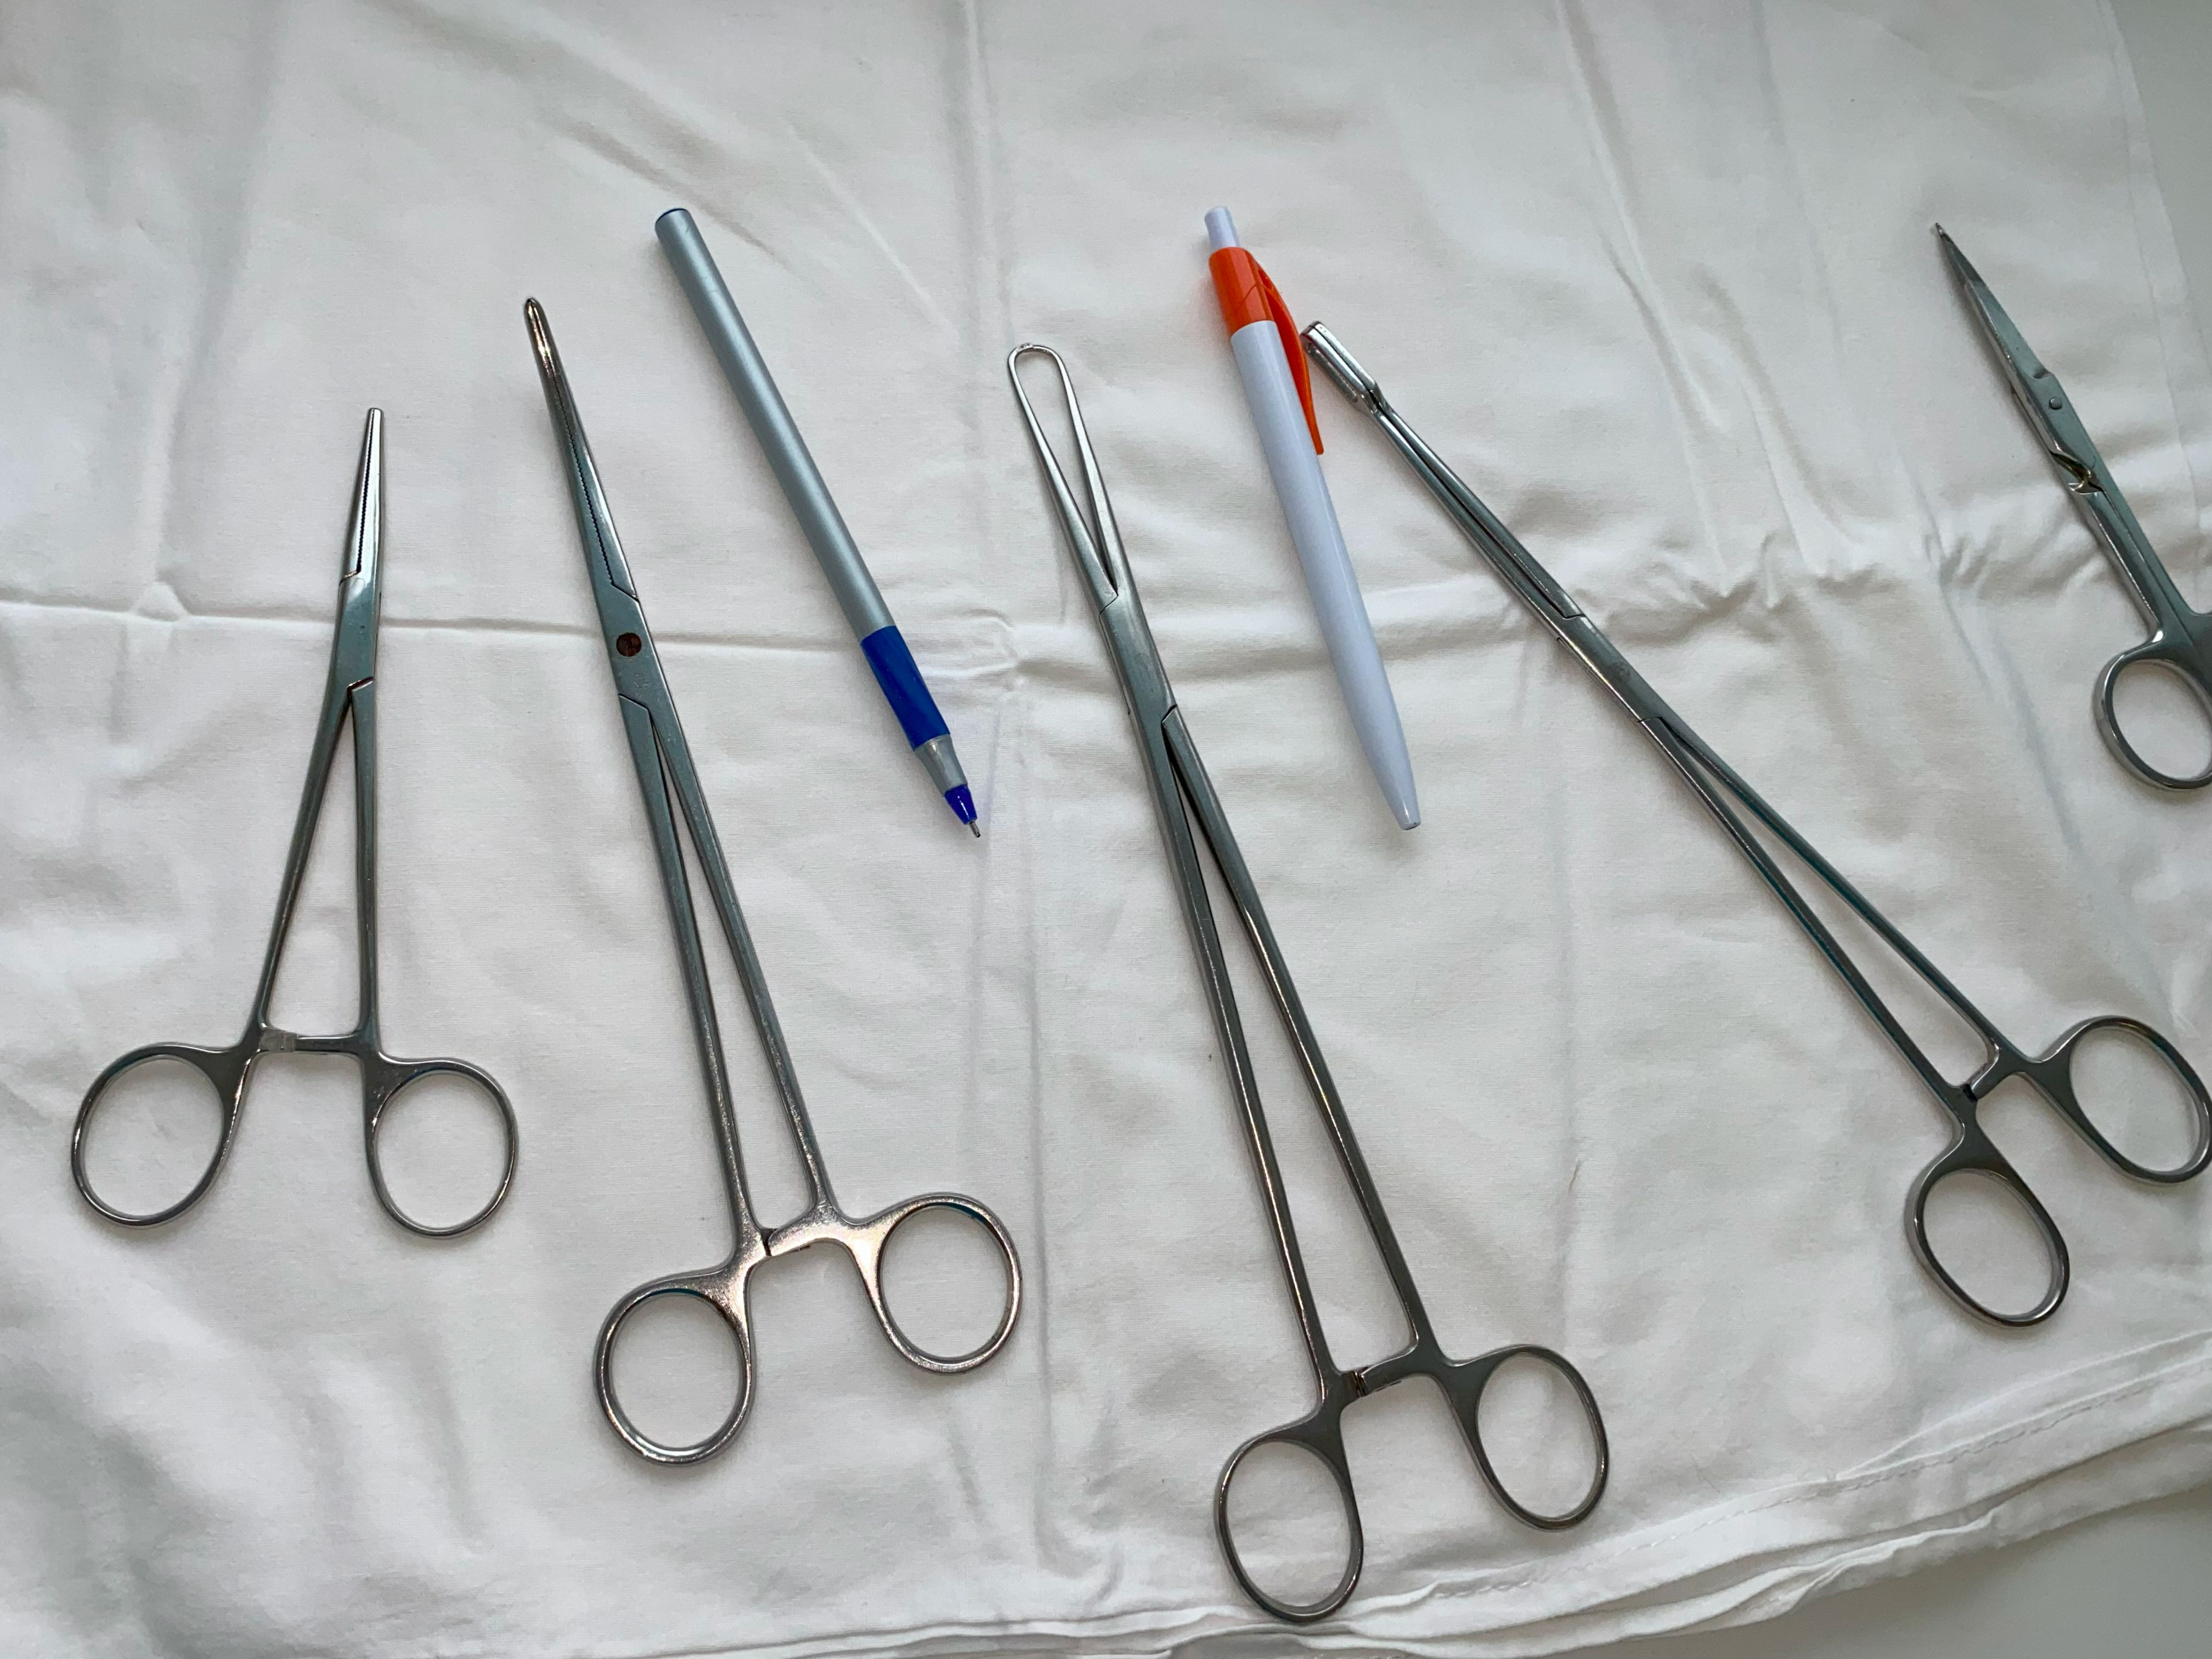clamp: (1305, 322, 2212, 1326), (1008, 345, 1609, 1624), (524, 298, 1022, 1464), (71, 408, 517, 1237)
scissors: (1932, 225, 2212, 789)
